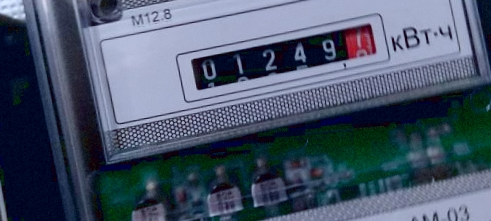0: (197, 53, 218, 81)
1: (229, 50, 246, 76)
2: (258, 45, 280, 73)
4: (290, 37, 310, 65)
7: (349, 24, 366, 49)
9: (319, 35, 339, 61)
screen: (167, 13, 405, 107)
